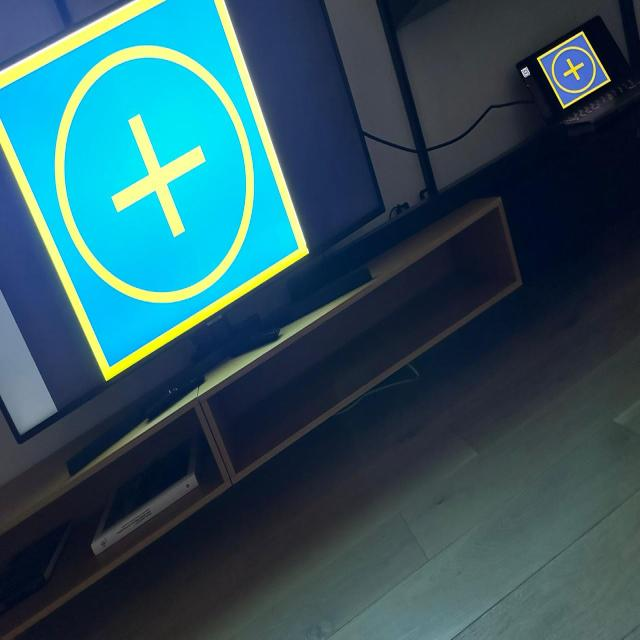Marker: (0, 0, 311, 381), (537, 31, 611, 109)
